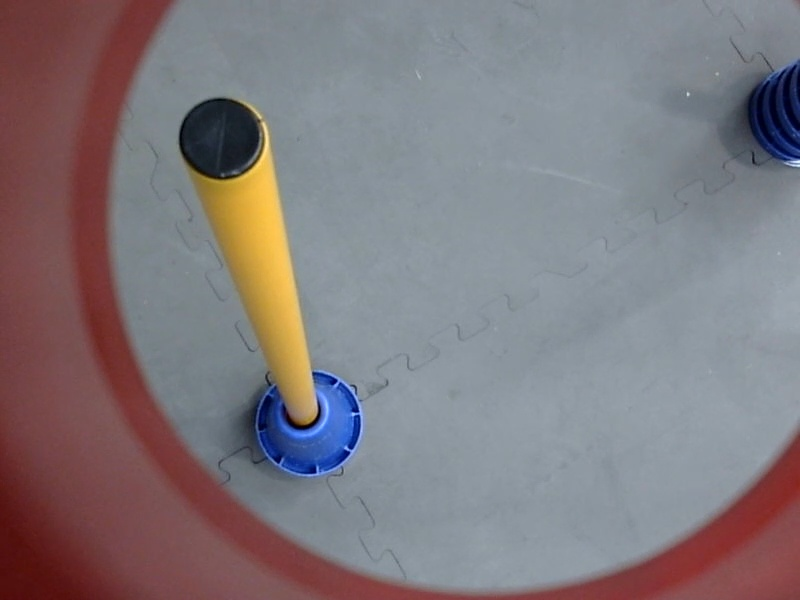tip: (171, 90, 270, 185)
